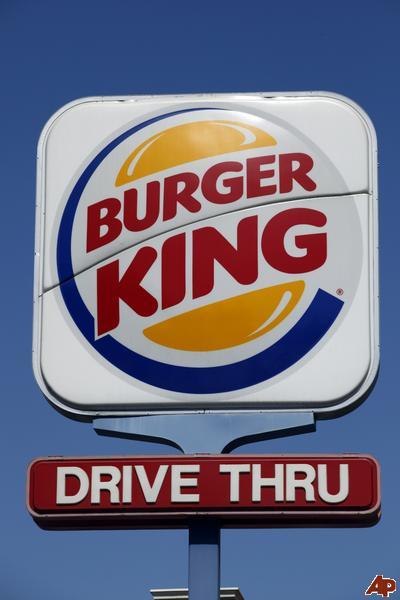Burger_King: (65, 104, 359, 388)
